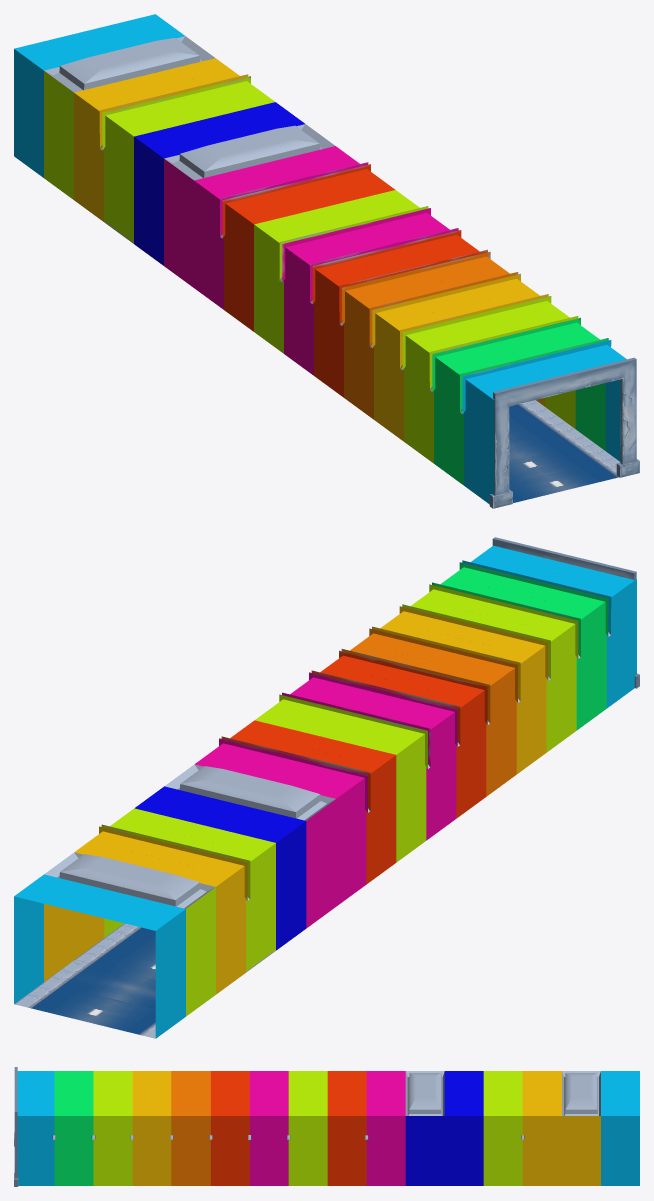
Rendered from underload.fbx.
3 views of the same model, one above another, from view 1: azimuth 30°, elevation 25°; view 2: azimuth 150°, elevation 25°; view 3: azimuth 270°, elevation 25° (orthographic). The views are drawn at different scales.
Visible parts, largest first — view 1: polySurface82, polySurface99, polySurface111, polySurface92, polySurface78; view 2: polySurface111, polySurface82, polySurface99, polySurface92, polySurface78; view 3: polySurface99, polySurface111, polySurface92, polySurface82, polySurface78.
Boxes of the visible parts, x1,y1,x2,y2 form: polySurface82: (369, 272, 626, 504); polySurface99: (134, 102, 395, 331); polySurface111: (14, 14, 274, 243); polySurface92: (254, 190, 509, 419); polySurface78: (489, 357, 639, 508); polySurface111: (14, 808, 275, 1038); polySurface82: (369, 545, 636, 774); polySurface99: (135, 720, 396, 950); polySurface92: (255, 633, 516, 862); polySurface78: (492, 537, 639, 688); polySurface99: (327, 1071, 483, 1185); polySurface111: (483, 1071, 639, 1185); polySurface92: (171, 1071, 327, 1185); polySurface82: (17, 1071, 173, 1185); polySurface78: (14, 1067, 18, 1186).
Size of the model in its own units: 102 by 76.79 by 570.
